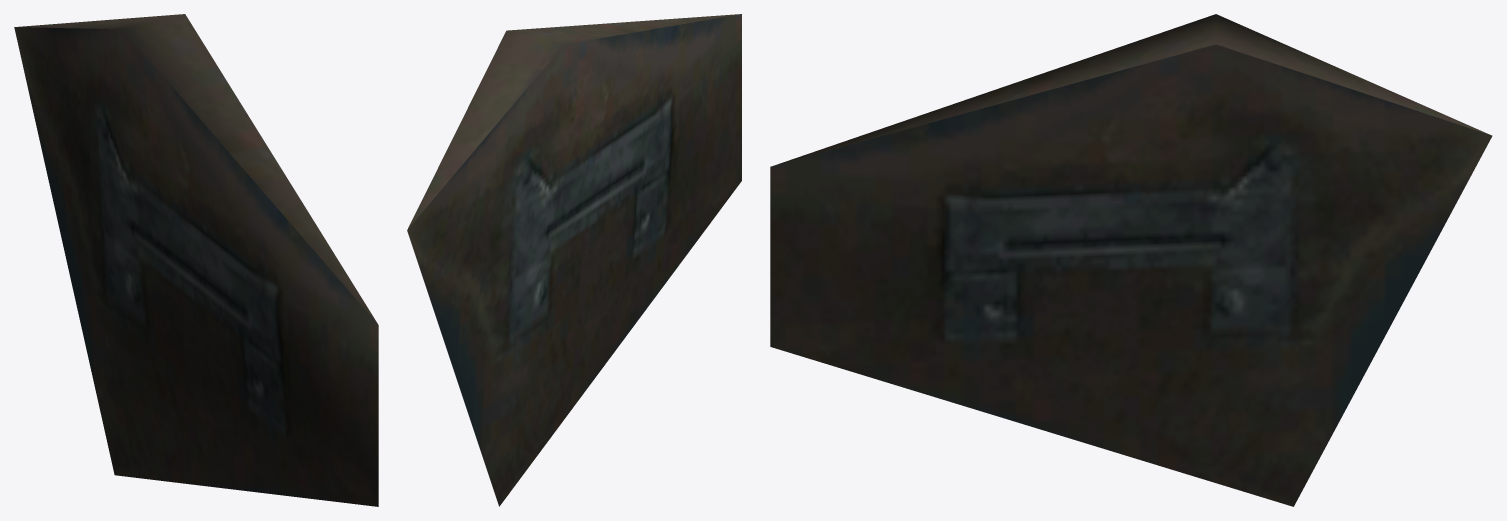
Rendered from wp_rifle_laser_stock_l2.fbx.
3 views of the same model, side by side, from view 1: azimuth 30°, elevation 25°; view 2: azimuth 150°, elevation 25°; view 3: azimuth 270°, elevation 25° (orthographic). The views are drawn at different scales.
Visible parts, largest first — view 1: mesh_node; view 2: mesh_node; view 3: mesh_node.
Part boxes in pixels (box(x1,y1,x2,y2)): mesh_node: box(14, 14, 378, 506); mesh_node: box(407, 14, 741, 506); mesh_node: box(770, 14, 1492, 506).
Bounding box in the file's own units: 0.0173 × 0.1272 × 0.1742.
